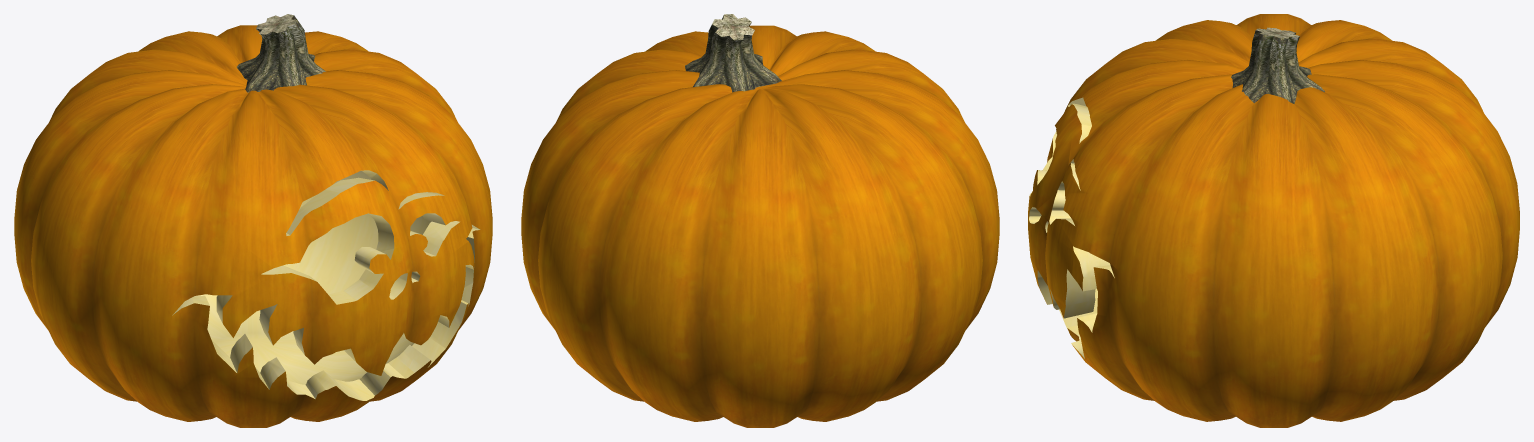
Rendered from 南瓜灯_03.obj.
3 views of the same model, side by side, from view 1: azimuth 30°, elevation 25°; view 2: azimuth 150°, elevation 25°; view 3: azimuth 270°, elevation 25° (orthographic). The views are drawn at different scales.
Parts seen in each view (by area): view 1: PumpkinC_001, Stalk01_001; view 2: PumpkinC_001, Stalk01_001; view 3: PumpkinC_001, Stalk01_001.
Boxes of the visible parts, x1=… form: PumpkinC_001: x1=14, y1=25, x2=492, y2=427; Stalk01_001: x1=236, y1=14, x2=325, y2=92; PumpkinC_001: x1=521, y1=25, x2=999, y2=427; Stalk01_001: x1=685, y1=14, x2=781, y2=92; PumpkinC_001: x1=1028, y1=14, x2=1519, y2=427; Stalk01_001: x1=1231, y1=27, x2=1324, y2=103.
Size of the model in its own units: 105 by 84.99 by 105.
